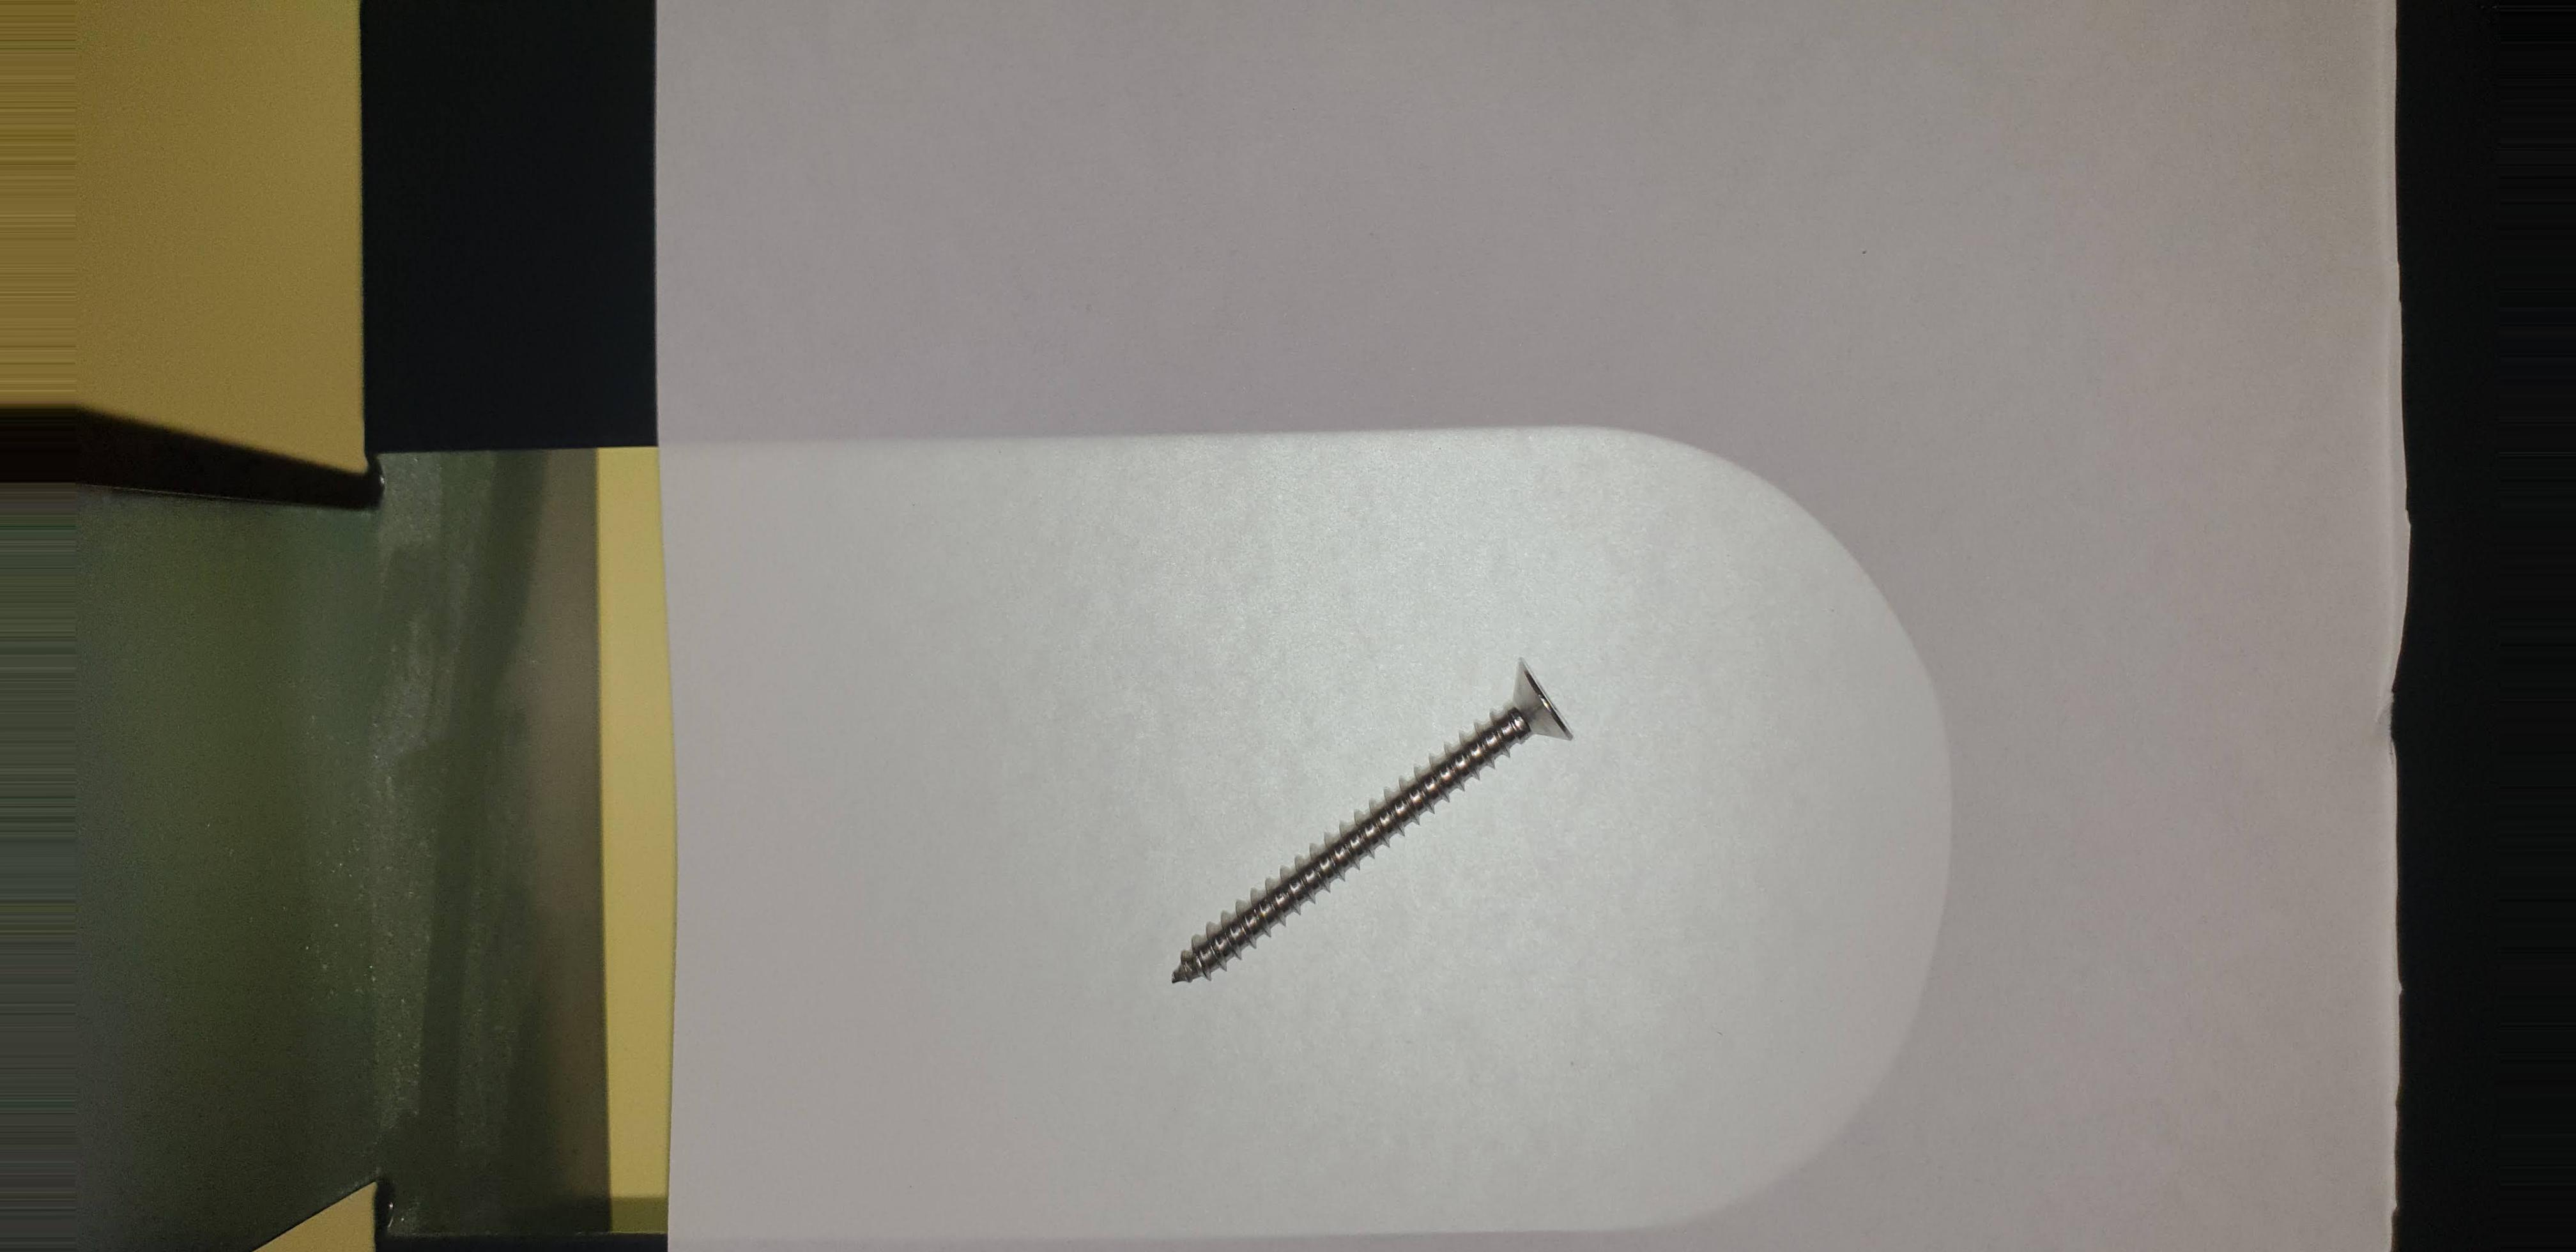fastener: (1046, 618, 1681, 1040)
